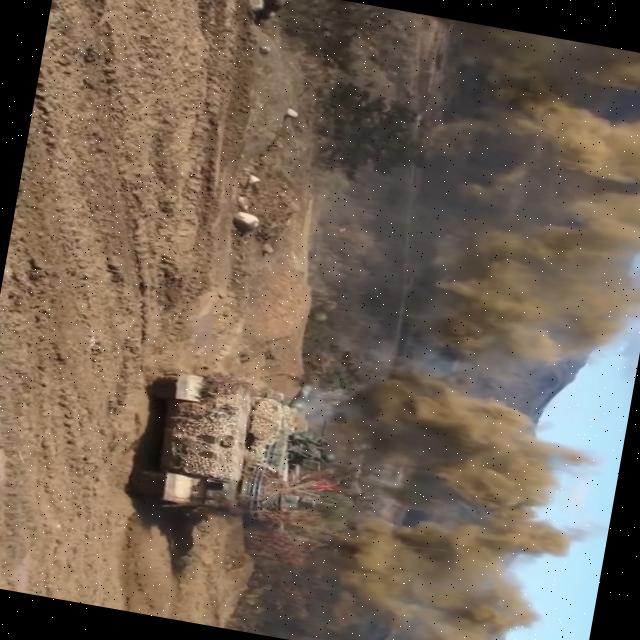korea tank: (115, 321, 362, 573)
